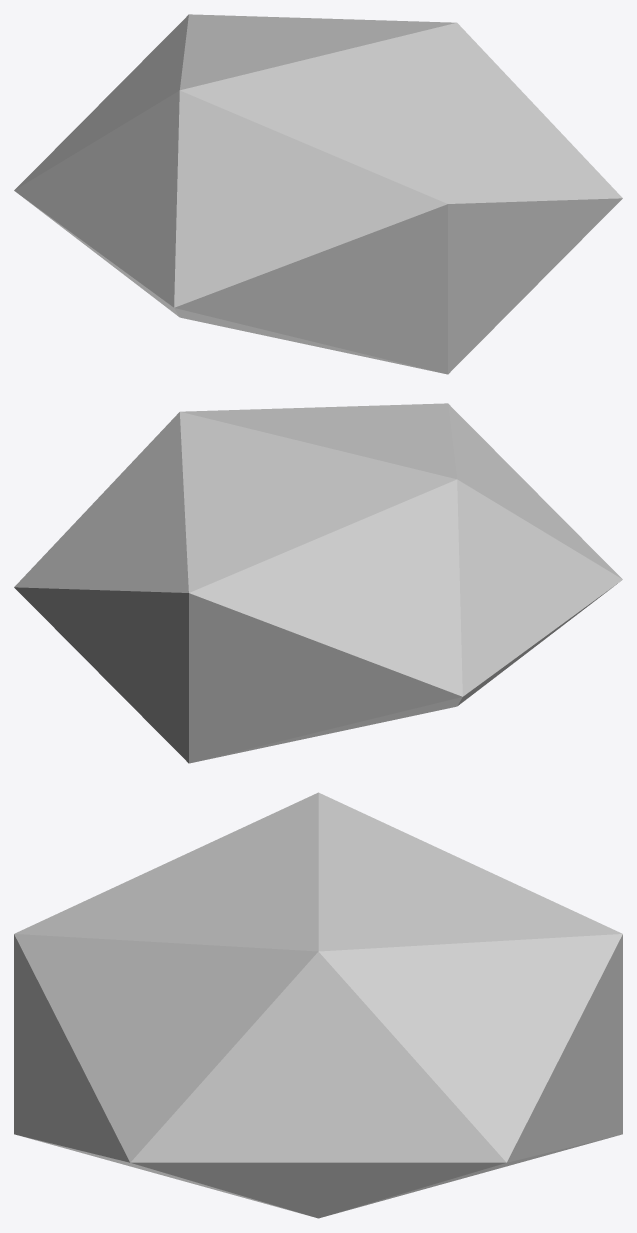
The model's file is rock_9.fbx.
3 renders of one model, top to bottom at view 1: azimuth 30°, elevation 25°; view 2: azimuth 150°, elevation 25°; view 3: azimuth 270°, elevation 25°, orthographic. The views are drawn at different scales.
Visible parts, largest first — view 1: rock_9; view 2: rock_9; view 3: rock_9.
Boxes of the visible parts, left/top/right/bottom form: rock_9: left=14, top=14, right=622, bottom=374; rock_9: left=14, top=403, right=622, bottom=763; rock_9: left=14, top=792, right=622, bottom=1218.
Bounding box in the file's own units: 63.75 × 30.84 × 63.75.
